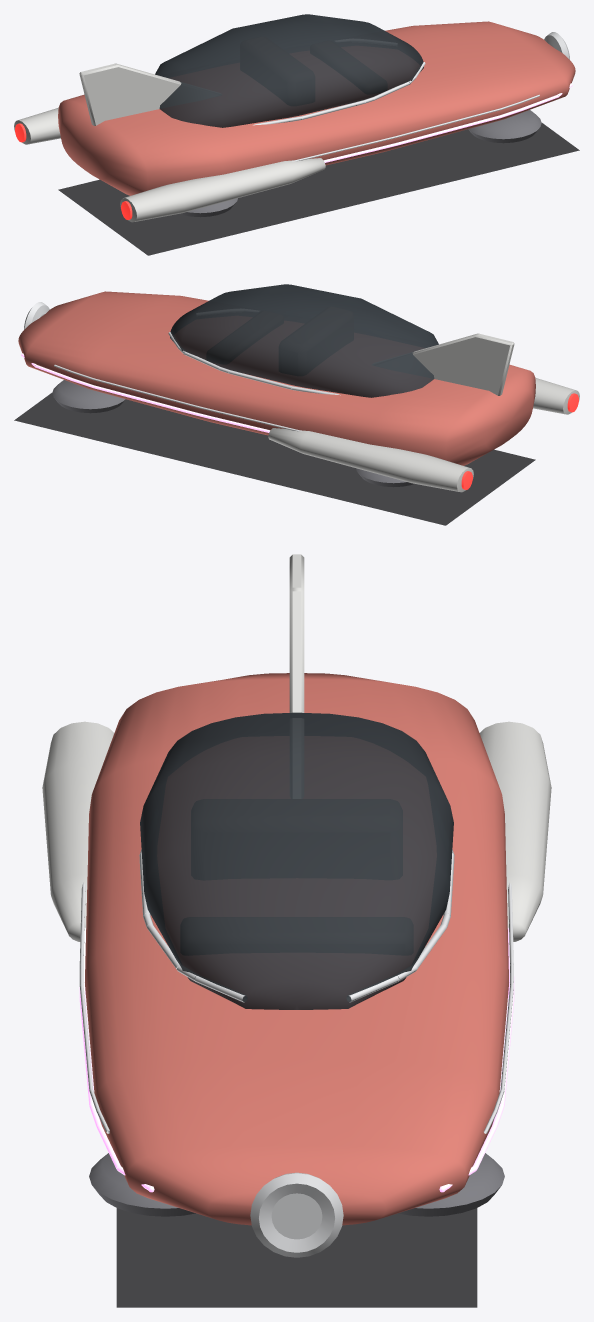
File: car_retro_b.glb
3 views of the same model, one above another, from view 1: azimuth 30°, elevation 25°; view 2: azimuth 150°, elevation 25°; view 3: azimuth 270°, elevation 25° (orthographic). The views are drawn at different scales.
Visible parts, largest first — view 1: car_retro_b; view 2: car_retro_b; view 3: car_retro_b.
Part boxes in pixels (x1=…): car_retro_b: x1=14, y1=14, x2=579, y2=255; car_retro_b: x1=14, y1=284, x2=579, y2=525; car_retro_b: x1=42, y1=554, x2=551, y2=1307.
Size of the model in its own units: 5.32 by 1.62 by 2.4.
